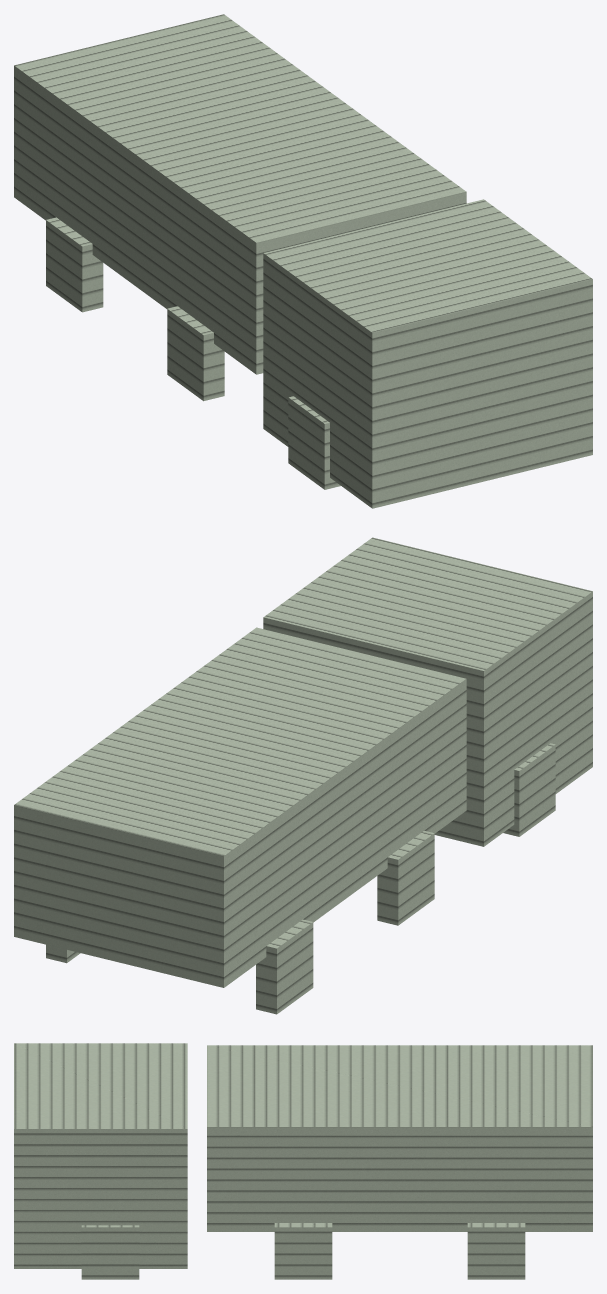
File: vehicle_tow_truck.glb
3 views of the same model, one above another, from view 1: azimuth 30°, elevation 25°; view 2: azimuth 150°, elevation 25°; view 3: azimuth 270°, elevation 25° (orthographic). The views are drawn at different scales.
Visible parts, largest first — view 1: vehicle_tow_truck-col; view 2: vehicle_tow_truck-col; view 3: vehicle_tow_truck-col.
Part boxes in pixels (x1=…): vehicle_tow_truck-col: x1=14, y1=14, x2=592, y2=508; vehicle_tow_truck-col: x1=14, y1=537, x2=592, y2=1014; vehicle_tow_truck-col: x1=14, y1=1043, x2=592, y2=1279.
Size of the model in its own units: 2.2 by 1.7 by 6.
Materials: 1 (1 with a texture image).
